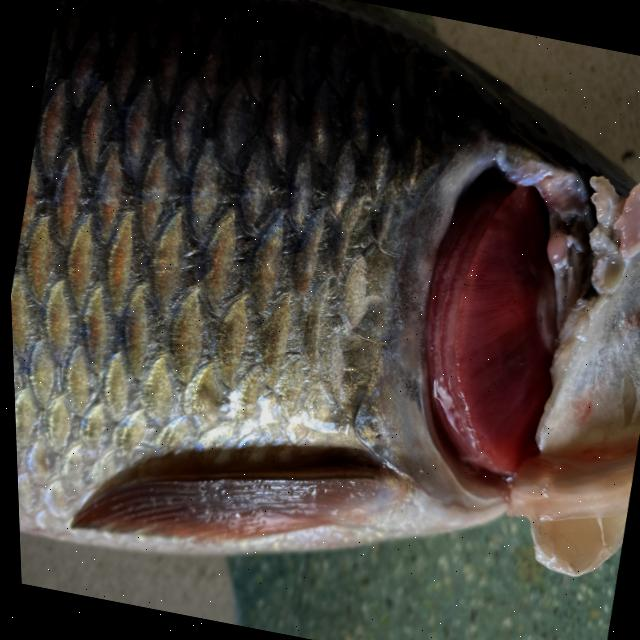Fresh: (355, 108, 628, 551)
